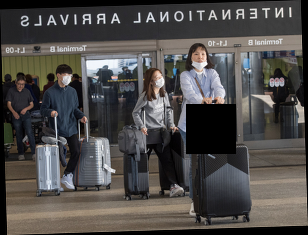mask_weared_incorrect: (192, 49, 209, 72)
with_mask: (152, 72, 166, 91), (60, 72, 73, 87)
without_mask: (16, 80, 26, 90)
